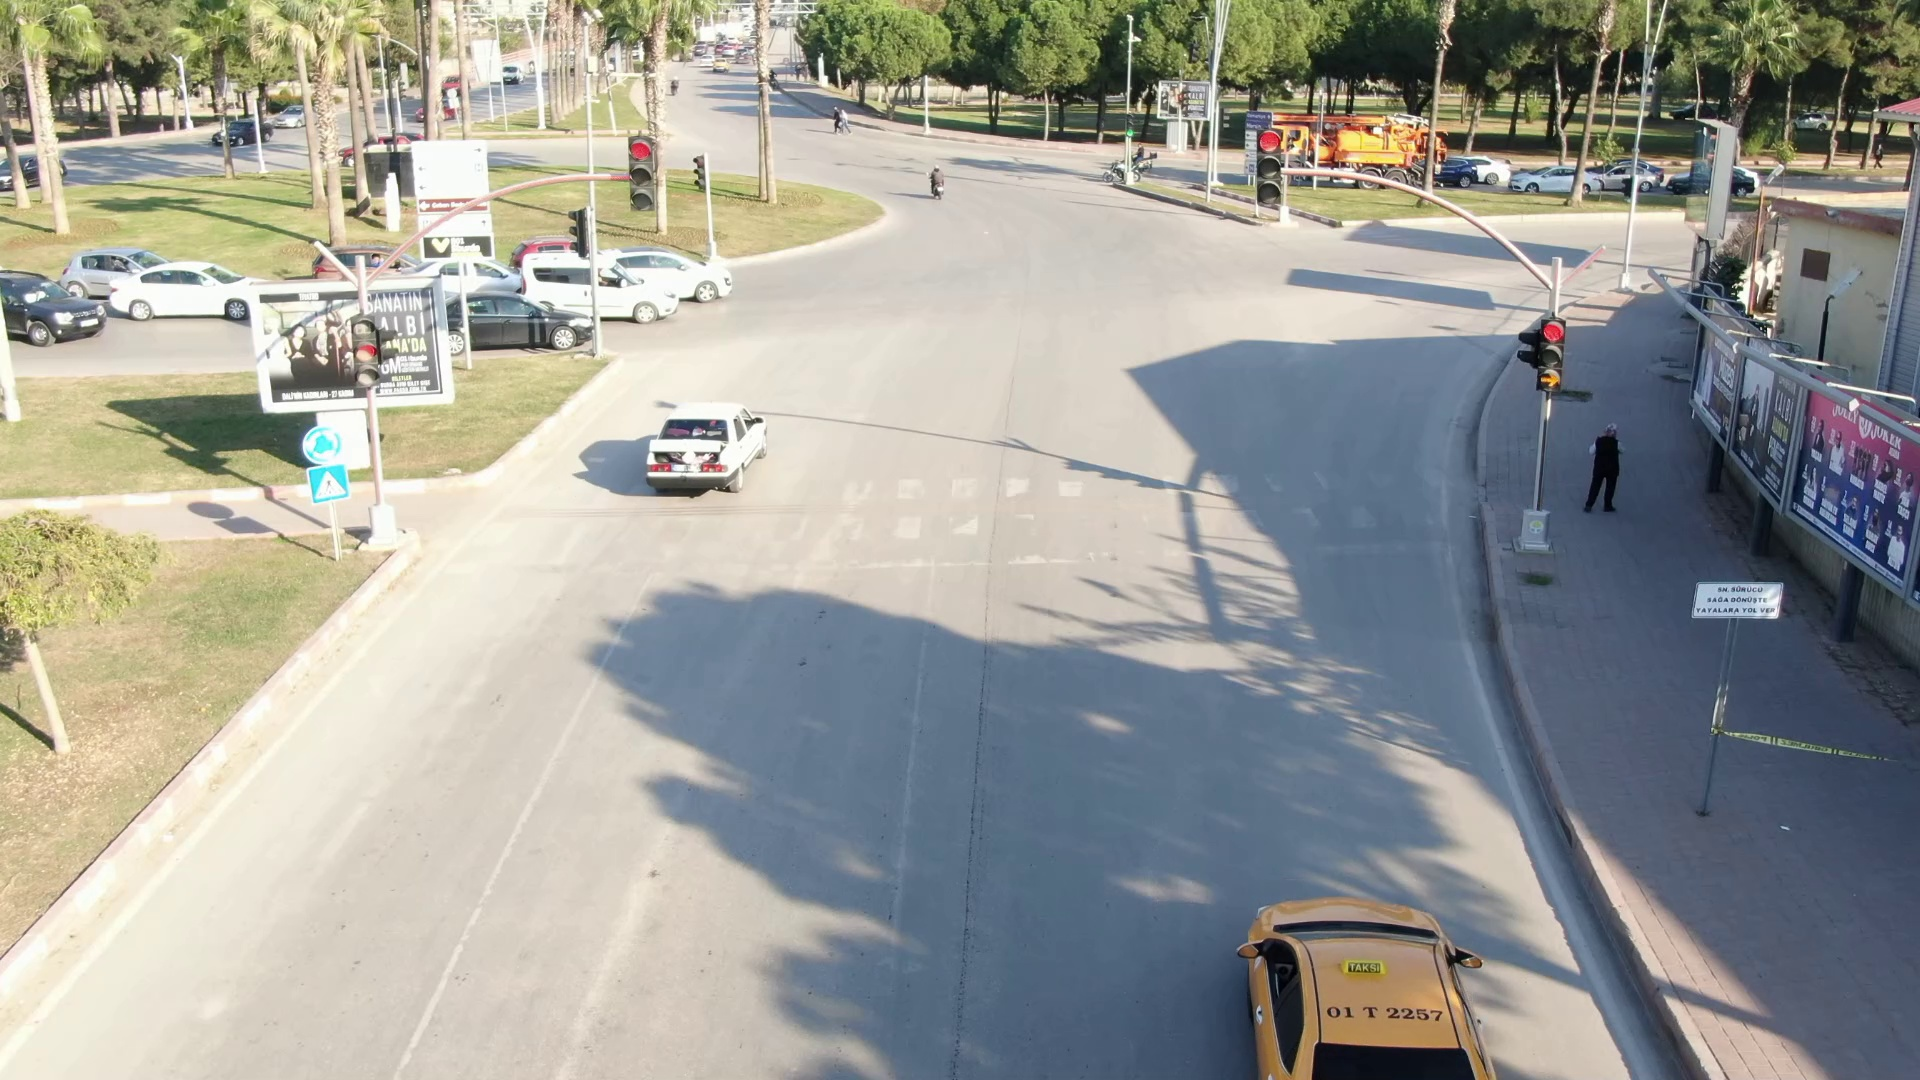car: (1220, 869, 1533, 1080), (635, 392, 780, 496), (529, 243, 694, 323), (423, 284, 614, 347), (596, 229, 755, 300), (1, 280, 112, 337)
person: (1583, 420, 1633, 523), (923, 165, 957, 198)
